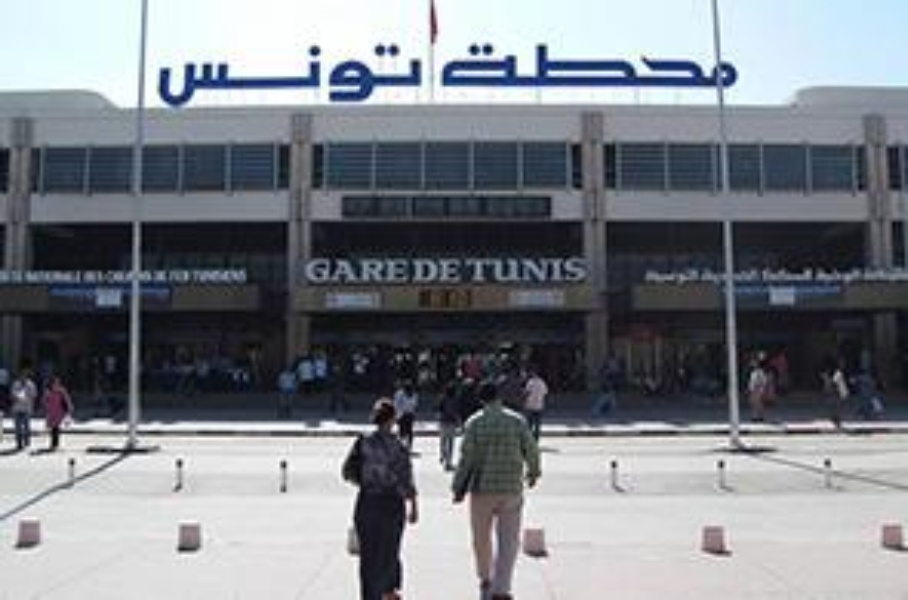text: (161, 41, 176, 111), (177, 41, 192, 111), (193, 41, 208, 111), (209, 41, 224, 111), (225, 41, 240, 111), (241, 41, 256, 111), (257, 41, 272, 111), (273, 41, 288, 111), (289, 41, 304, 111), (305, 41, 320, 111), (321, 41, 336, 111), (337, 41, 352, 111), (353, 41, 368, 111), (369, 41, 384, 111), (385, 41, 400, 111), (401, 41, 416, 111), (449, 37, 464, 93), (465, 37, 480, 93), (481, 37, 496, 93), (497, 37, 512, 93), (513, 37, 528, 93), (529, 37, 544, 93), (545, 37, 560, 93), (561, 37, 576, 93), (577, 37, 592, 93), (593, 37, 608, 93), (609, 37, 624, 93), (625, 37, 640, 93), (641, 37, 656, 93), (657, 37, 672, 93), (673, 37, 688, 93), (689, 37, 704, 93), (705, 37, 720, 93), (721, 37, 736, 93), (657, 259, 672, 299), (673, 259, 688, 299), (689, 259, 704, 299), (705, 259, 720, 299), (721, 259, 736, 299), (737, 259, 752, 299), (753, 259, 768, 299), (769, 259, 784, 299), (785, 259, 800, 299), (801, 259, 816, 299), (817, 259, 832, 299), (833, 259, 848, 299), (849, 259, 864, 299), (865, 259, 880, 299), (881, 259, 896, 299), (438, 37, 448, 93), (417, 41, 425, 111), (1, 262, 16, 299), (17, 262, 32, 299), (33, 262, 48, 299), (49, 262, 64, 299), (65, 262, 80, 299), (81, 262, 96, 299), (97, 262, 112, 299), (113, 262, 128, 299), (129, 262, 144, 299), (145, 262, 160, 299), (161, 262, 176, 299), (177, 262, 192, 299), (193, 262, 208, 299), (209, 262, 224, 299), (225, 262, 240, 299), (644, 259, 656, 299), (241, 262, 253, 299), (154, 41, 160, 111), (465, 256, 480, 284), (481, 256, 496, 284), (497, 256, 512, 284), (513, 256, 528, 284), (529, 256, 544, 284), (545, 256, 560, 284), (561, 256, 576, 284), (417, 256, 432, 284), (433, 256, 448, 284), (305, 256, 320, 284), (321, 256, 336, 284), (337, 256, 352, 284), (353, 256, 368, 284), (369, 256, 384, 284), (385, 256, 400, 284), (577, 256, 591, 284), (449, 256, 462, 284), (401, 256, 413, 284), (897, 259, 905, 299), (737, 37, 742, 93), (407, 256, 416, 284)
